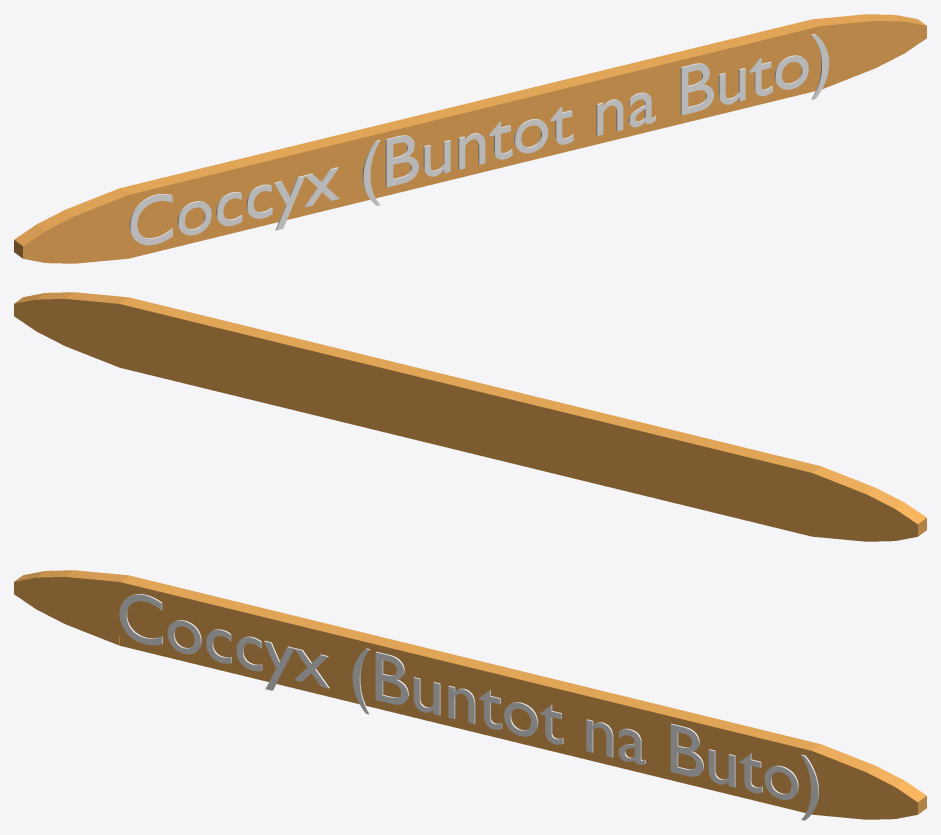
The model's file is txtCoccyx.fbx.
3 views of the same model, one above another, from view 1: azimuth 30°, elevation 25°; view 2: azimuth 150°, elevation 25°; view 3: azimuth 330°, elevation 25° (orthographic).
Parts seen in each view (by area): view 1: TagContainer.063, Text.064; view 2: TagContainer.063; view 3: TagContainer.063, Text.064.
Boxes of the visible parts, x1,y1,x2,y2 form: TagContainer.063: [14, 14, 926, 263]; Text.064: [129, 33, 829, 245]; TagContainer.063: [14, 292, 926, 541]; TagContainer.063: [14, 570, 926, 819]; Text.064: [119, 594, 818, 820].
Size of the model in its own units: 613 by 45.81 by 11.79.
